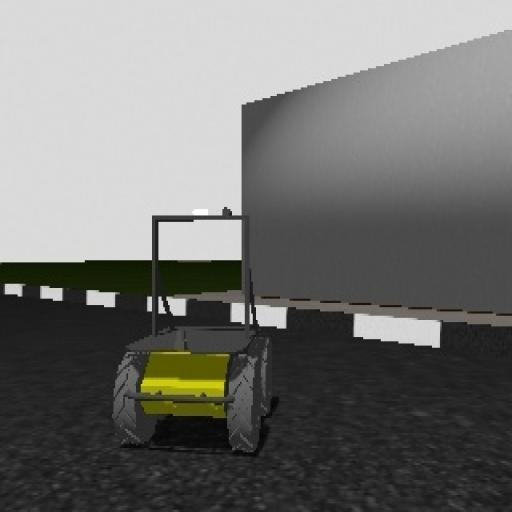huskya200: (82, 188, 285, 486)
